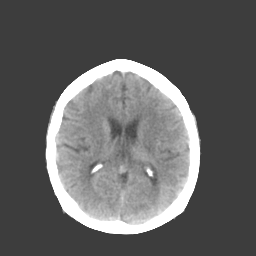ischemic: (141, 112, 189, 164)
